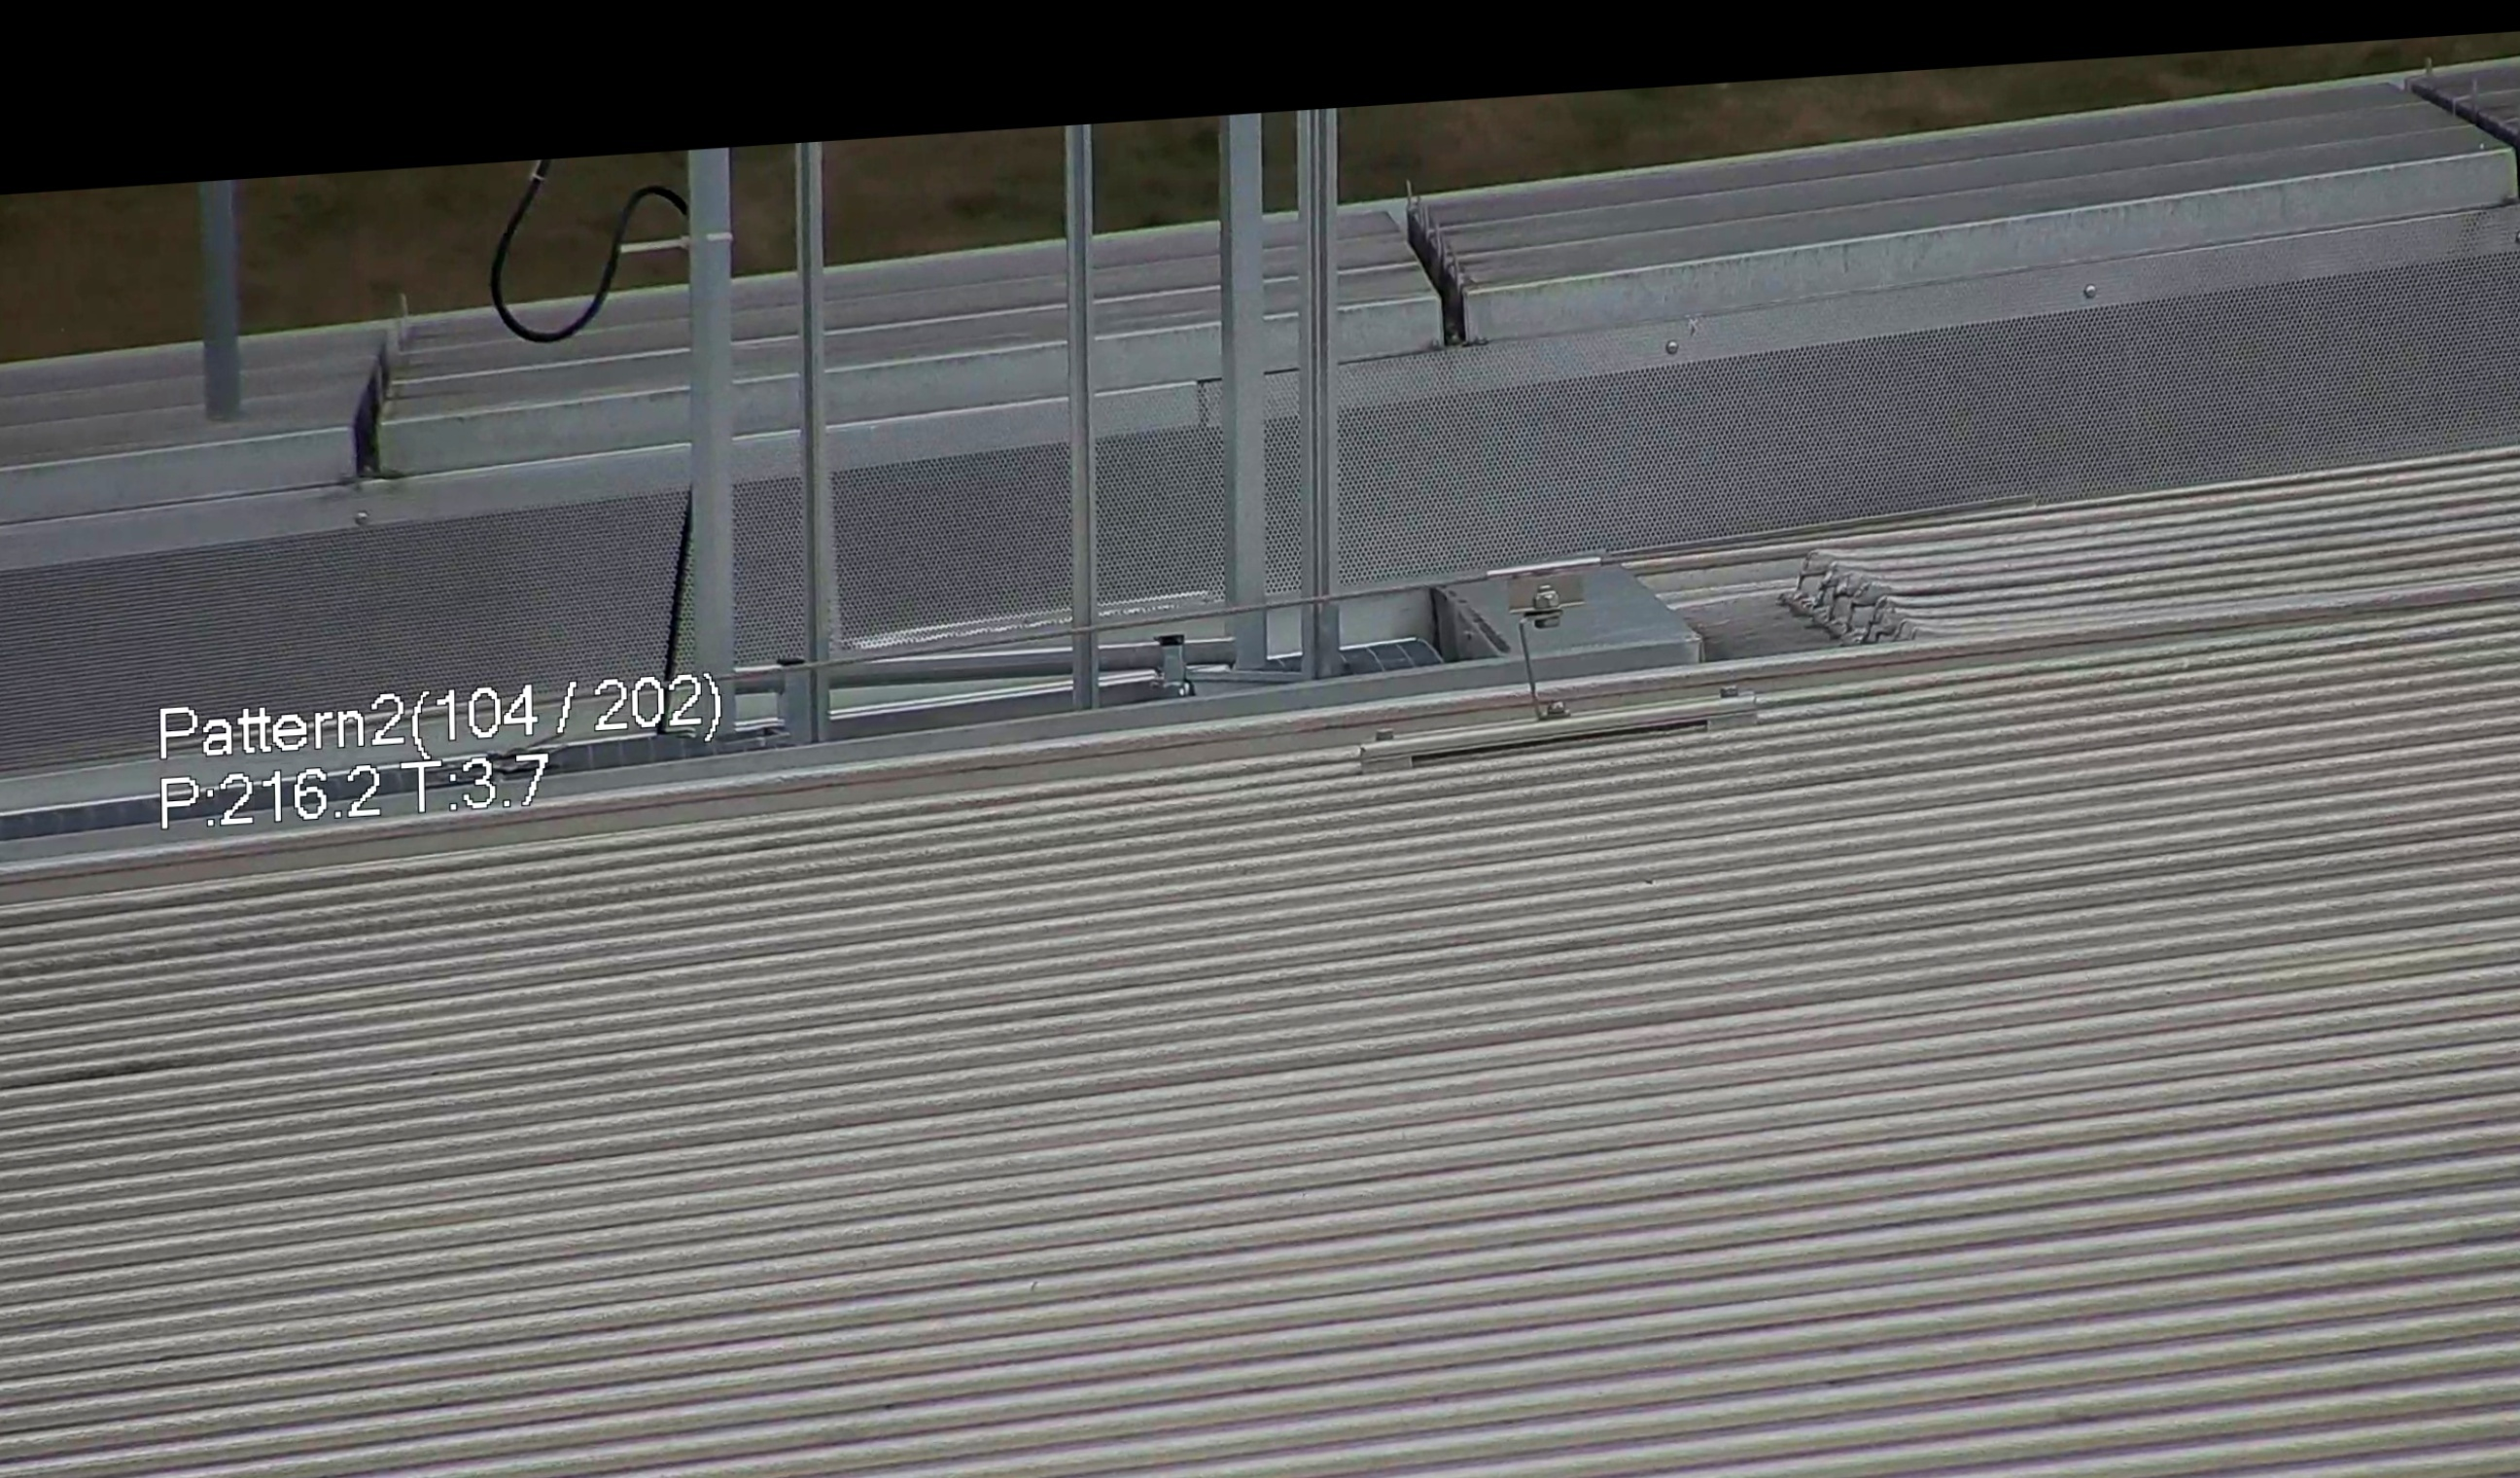Other: (468, 150, 700, 338)
